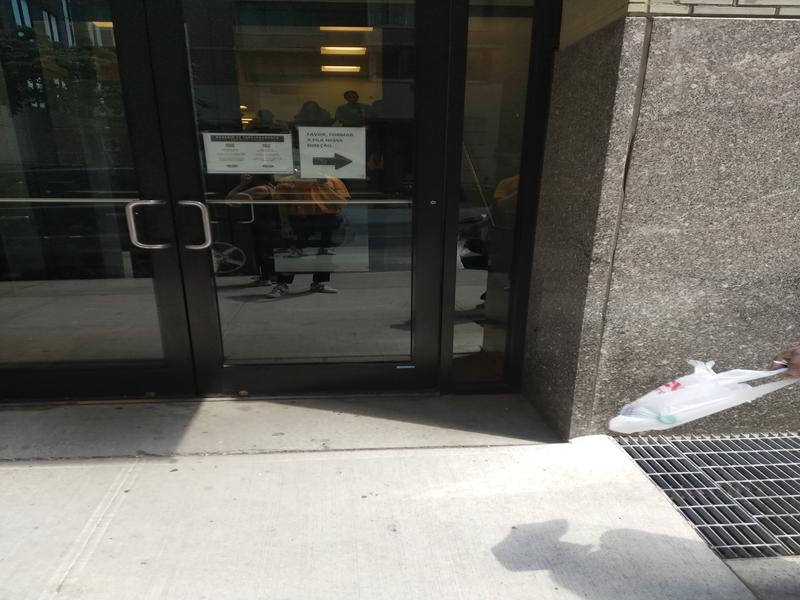double_door: (6, 3, 451, 407)
